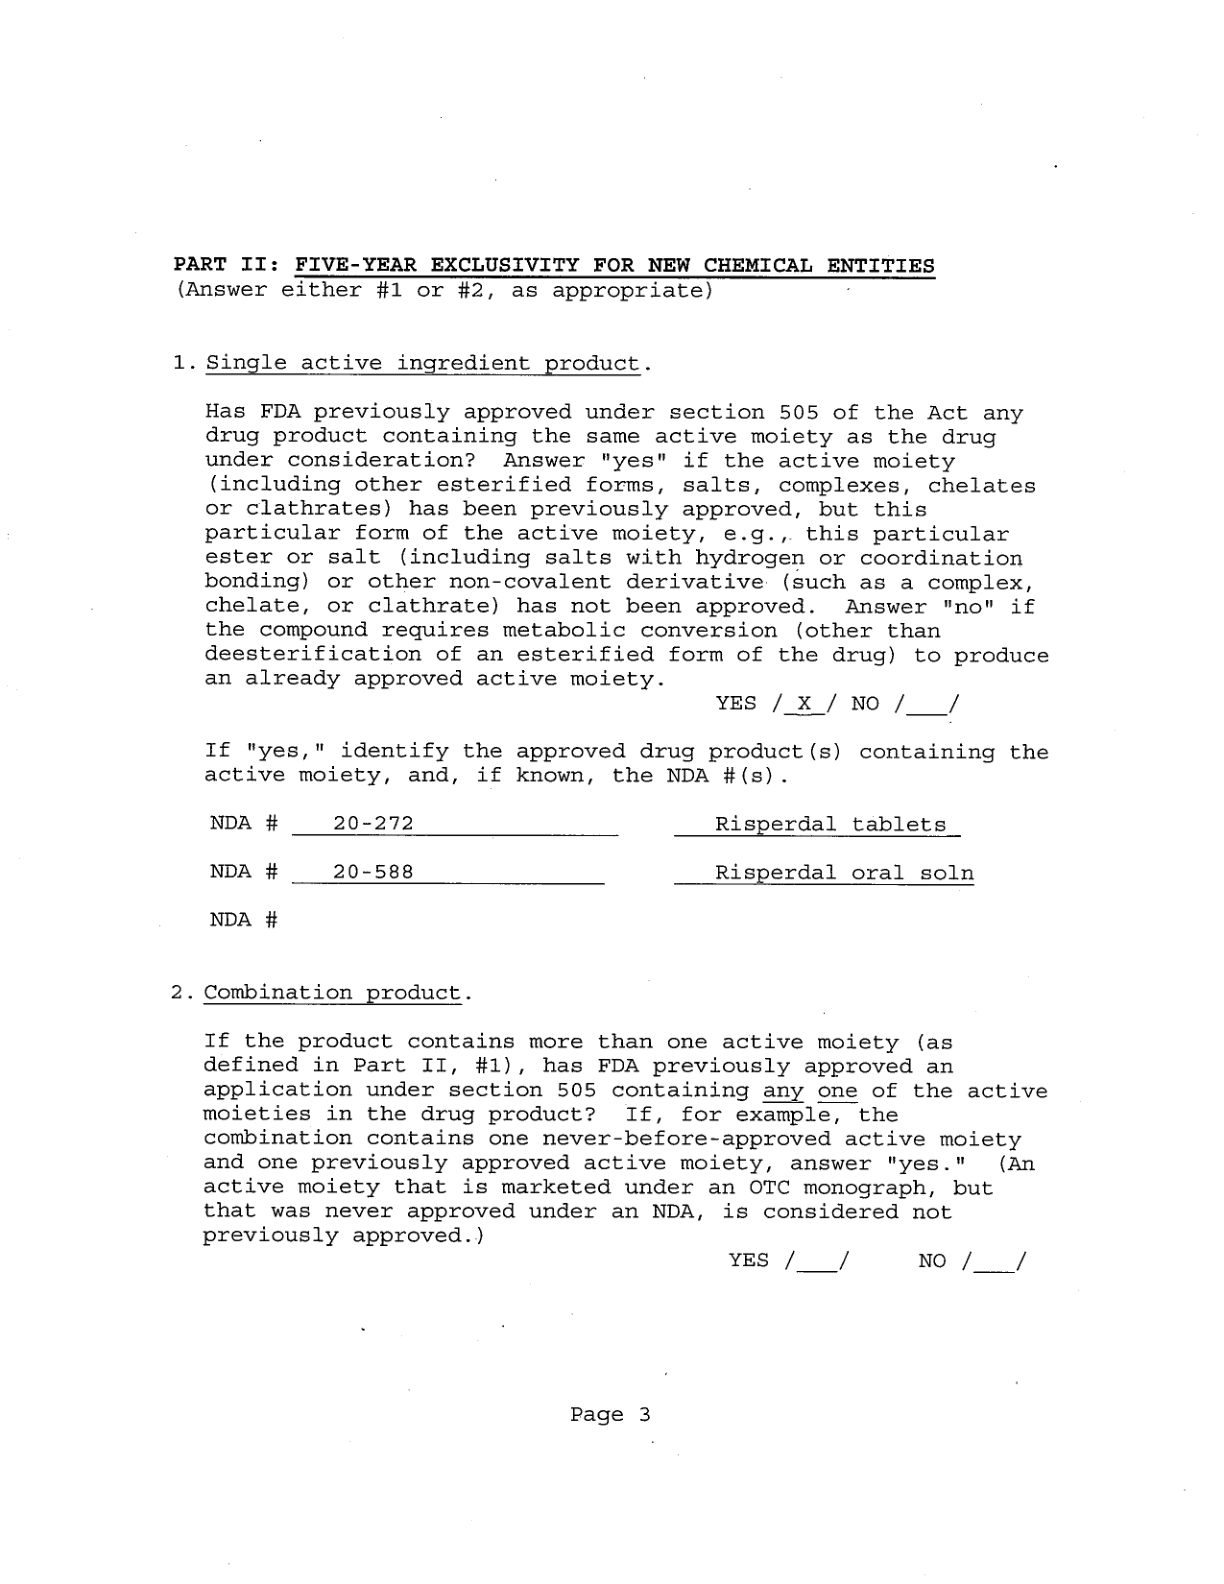nolines: (206, 806, 975, 931)
